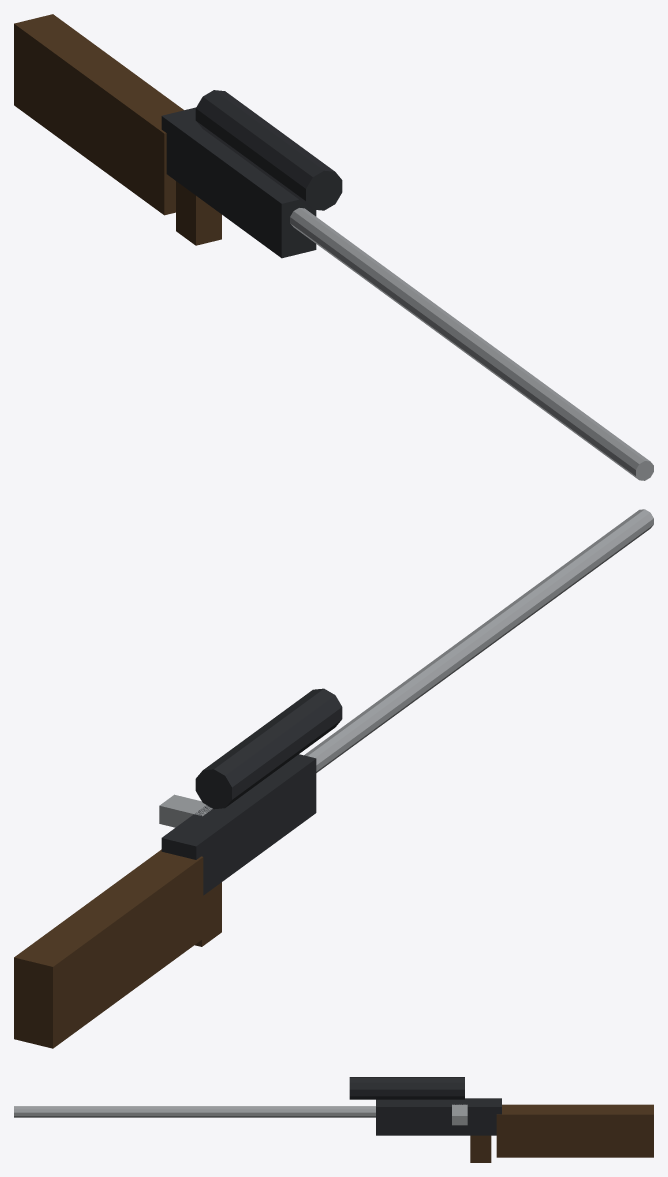
File: WPN_Rifle01.glb
3 renders of one model, top to bottom at view 1: azimuth 30°, elevation 25°; view 2: azimuth 150°, elevation 25°; view 3: azimuth 270°, elevation 25°, orthographic. The views are drawn at different scales.
Visible parts, largest first — view 1: WPN_Rifle01_Stock, WPN_Rifle01_Barrel, WPN_Rifle01_Receiver, WPN_Rifle01_Scope, WPN_Rifle01_Grip; view 2: WPN_Rifle01_Stock, WPN_Rifle01_Receiver, WPN_Rifle01_Barrel, WPN_Rifle01_Scope, WPN_Rifle01_Bolt, WPN_Rifle01_Grip; view 3: WPN_Rifle01_Stock, WPN_Rifle01_Barrel, WPN_Rifle01_Receiver, WPN_Rifle01_Scope, WPN_Rifle01_Grip, WPN_Rifle01_Bolt.
Part boxes in pixels (x1,y1,x2,y2): WPN_Rifle01_Stock: [14, 14, 183, 215]; WPN_Rifle01_Barrel: [290, 208, 653, 480]; WPN_Rifle01_Receiver: [161, 107, 316, 258]; WPN_Rifle01_Scope: [195, 90, 342, 210]; WPN_Rifle01_Grip: [176, 181, 221, 245]; WPN_Rifle01_Stock: [14, 849, 203, 1048]; WPN_Rifle01_Receiver: [161, 754, 316, 895]; WPN_Rifle01_Barrel: [304, 509, 653, 772]; WPN_Rifle01_Scope: [195, 688, 342, 809]; WPN_Rifle01_Bolt: [159, 794, 212, 827]; WPN_Rifle01_Grip: [195, 882, 221, 946]; WPN_Rifle01_Stock: [496, 1104, 653, 1157]; WPN_Rifle01_Barrel: [14, 1106, 375, 1117]; WPN_Rifle01_Receiver: [376, 1098, 501, 1135]; WPN_Rifle01_Scope: [349, 1077, 464, 1099]; WPN_Rifle01_Grip: [470, 1135, 491, 1162]; WPN_Rifle01_Bolt: [452, 1104, 467, 1125].
Size of the model in its own units: 0.0825 by 0.172 by 1.22.
